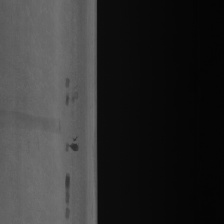oil_spot: (63, 76, 80, 105), (62, 168, 71, 221), (62, 137, 81, 159)
